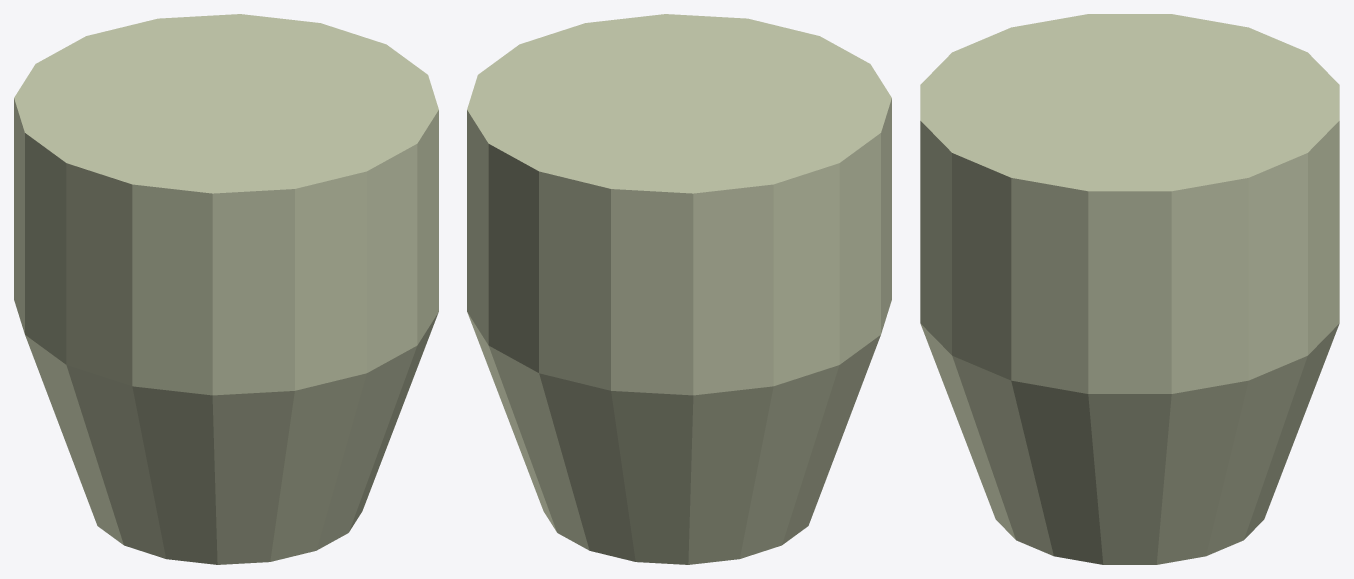
File: chara_lv_engine_s0p5_2_collider.obj
The picture shows the model from 3 angles, left to right: view 1: azimuth 30°, elevation 25°; view 2: azimuth 150°, elevation 25°; view 3: azimuth 270°, elevation 25°; orthographic projection.
Visible parts, largest first — view 1: chara_lv_engine_s0p5_2_collider; view 2: chara_lv_engine_s0p5_2_collider; view 3: chara_lv_engine_s0p5_2_collider.
Boxes of the visible parts, left/top/right/bottom form: chara_lv_engine_s0p5_2_collider: left=14, top=14, right=438, bottom=564; chara_lv_engine_s0p5_2_collider: left=467, top=14, right=891, bottom=564; chara_lv_engine_s0p5_2_collider: left=920, top=14, right=1339, bottom=564.
Size of the model in its own units: 0.9375 by 1 by 0.9375.
